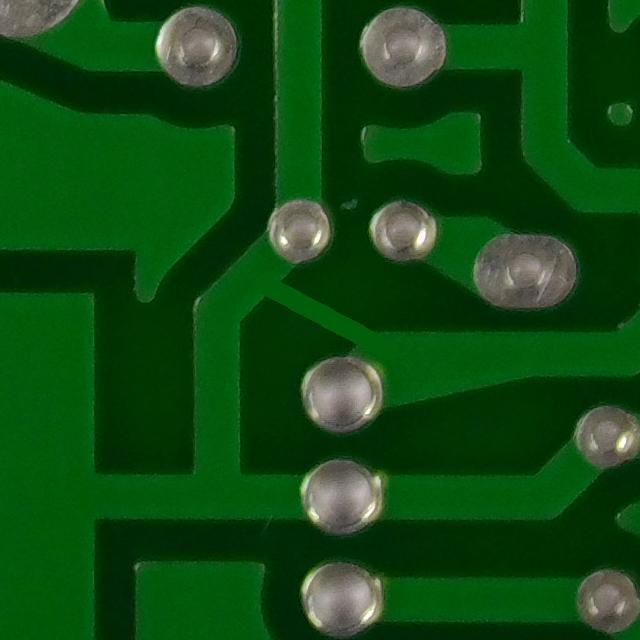short: (231, 238, 410, 402)
